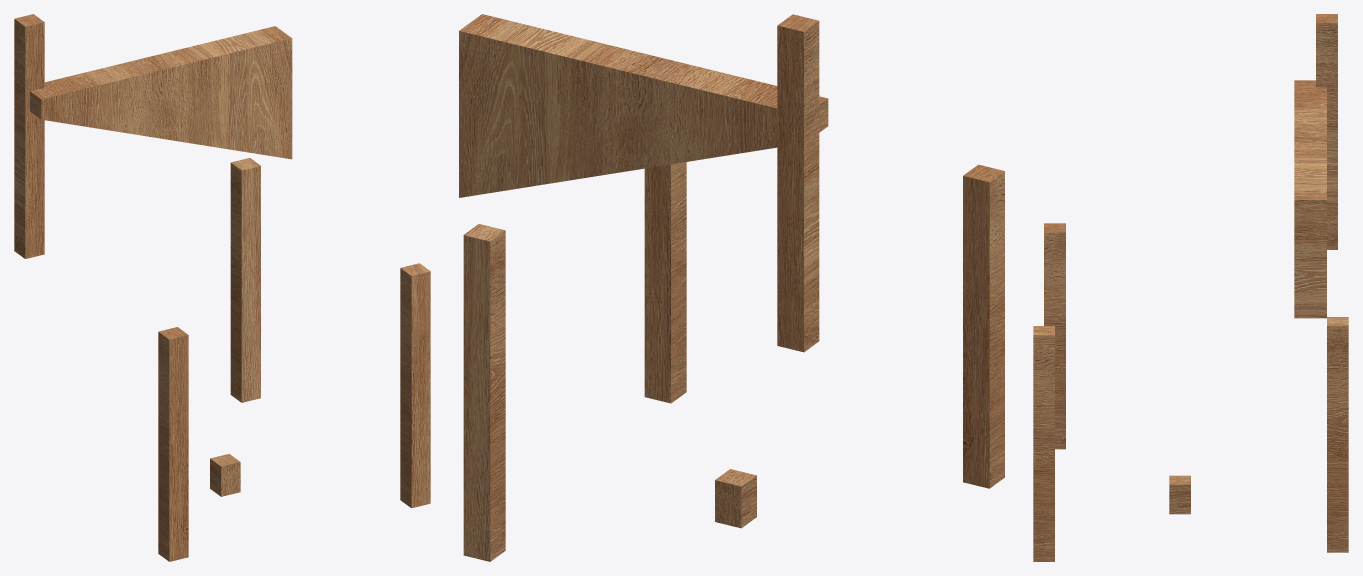
Rendered from 42713_deepcad-end2end.glb.
The picture shows the model from 3 angles, left to right: view 1: azimuth 30°, elevation 25°; view 2: azimuth 150°, elevation 25°; view 3: azimuth 270°, elevation 25°; orthographic projection. The views are drawn at different scales.
Parts seen in each view (by area): view 1: test_cmd_42713_pred; view 2: test_cmd_42713_pred; view 3: test_cmd_42713_pred.
Part boxes in pixels (left/top/right/bottom): test_cmd_42713_pred: left=14, top=14, right=430, bottom=561; test_cmd_42713_pred: left=459, top=14, right=1004, bottom=561; test_cmd_42713_pred: left=1033, top=14, right=1348, bottom=561.
Bounding box in the file's own units: 0.6136 × 1 × 0.6591.
Materials: 1 (1 with a texture image).
